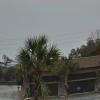Tree: (11, 29, 61, 94)
